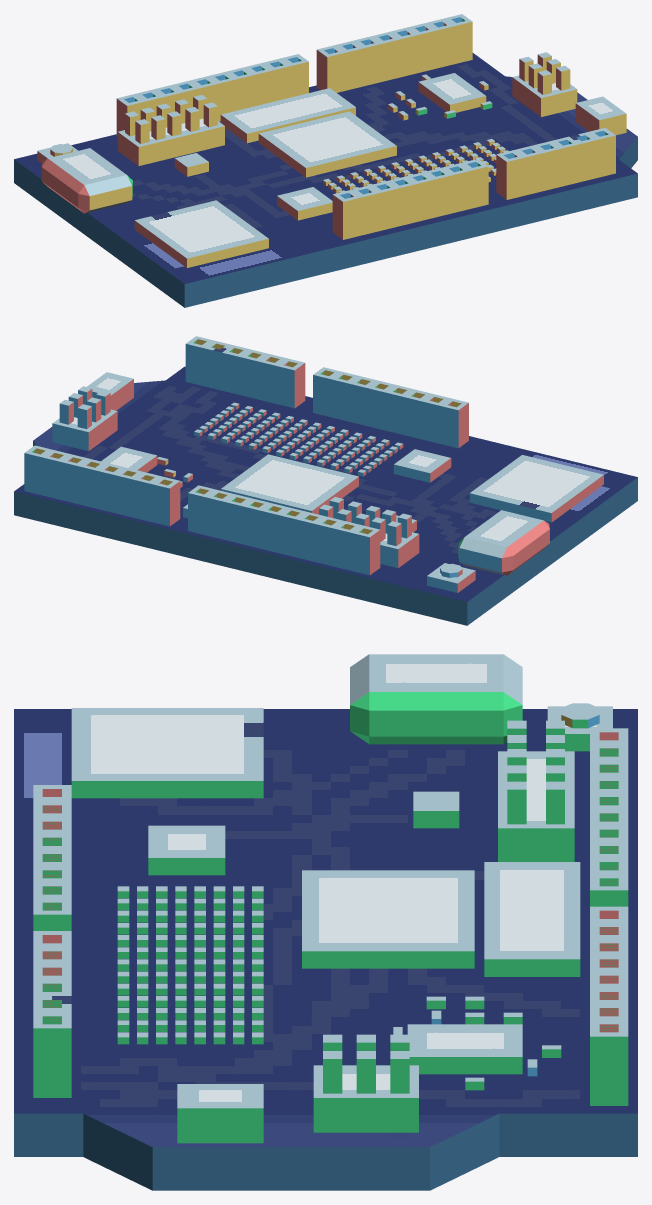
File: Arduino_uno_q.gltf
3 views of the same model, one above another, from view 1: azimuth 30°, elevation 25°; view 2: azimuth 150°, elevation 25°; view 3: azimuth 270°, elevation 25° (orthographic). The views are drawn at different scales.
Visible parts, largest first — view 1: base, pins, qrb, wcbn_wifi, usb-c, cuboid (×3), ram, cuboid_base, GND (×2), pm4125, qwiic, nc (+14 smaller); view 2: base, pins, wcbn_wifi, qrb, usb-c, cuboid (×2), GND (×3), SCL, A0, nc, qwiic, cuboid_base (+16 smaller); view 3: base, wcbn_wifi, qrb, cuboid (×8), usb-c, ram, pins, cuboid_base, pm4125, qwiic, RX, A5 (+11 smaller).
Boxes of the visible parts, x1,y1,x2,y2 form: base: (14,53,637,307); pins: (190,23,436,121); qrb: (258,111,396,177); wcbn_wifi: (134,200,268,267); usb-c: (41,148,132,213); cuboid (×3): (174,75,577,220); ram: (220,88,355,143); cuboid_base: (117,118,224,165); GND (×2): (424,163,470,217); pm4125: (418,73,486,112); qwiic: (575,96,626,135); nc: (332,190,361,239); base: (14,366,637,625); pins: (60,454,306,557); wcbn_wifi: (469,455,603,522); qrb: (221,454,358,514); usb-c: (458,510,549,575); cuboid (×2): (52,409,451,482); GND (×3): (297,371,377,561); SCL: (351,525,380,575); A0: (276,358,305,408); nc: (440,398,468,448); qwiic: (87,372,133,410); cuboid_base: (380,532,419,567); base: (14,709,637,1190); wcbn_wifi: (71,708,263,798); qrb: (302,870,474,968); cuboid (×8): (148,781,564,1132); usb-c: (350,654,522,744); ram: (484,862,580,976); pins: (590,793,628,1015); cuboid_base: (498,751,574,861); pm4125: (407,1024,522,1074); qwiic: (177,1084,263,1143); RX: (590,1020,628,1105); A5: (33,1012,71,1097).
Size of the model in its own units: 1.72 by 0.2042 by 1.02.
1 material, 1 textured.
